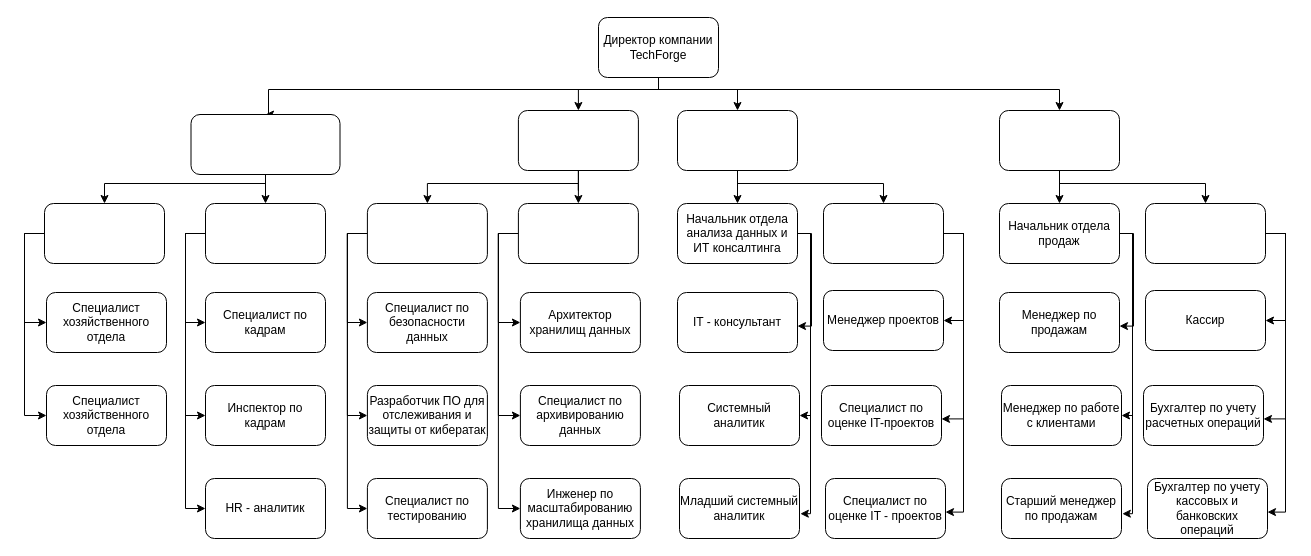
The diagram is 1311 pixels wide and 556 high, and some of its shapes have lost their labels. Here are the shapes that lost their labels. From the top down, the centre of each, then its label:
(x=265, y=144): Начальник департамента по материальному обеспечению и кадрам
(x=577, y=140): Начальник департамента кастодиальных услуг
(x=737, y=140): Начальник департамента эксплуатации
(x=1059, y=140): Начальник экономического департамента
(x=104, y=233): Начальник хозяйственного отдела
(x=265, y=233): Начальник отдела кадров
(x=426, y=233): Начальник отдела защиты информационных систем
(x=577, y=233): Начальник отдела хранения данных
(x=883, y=233): Начальник отдела оценки ИТ-проектов
(x=1205, y=233): Главный бухгалтер
